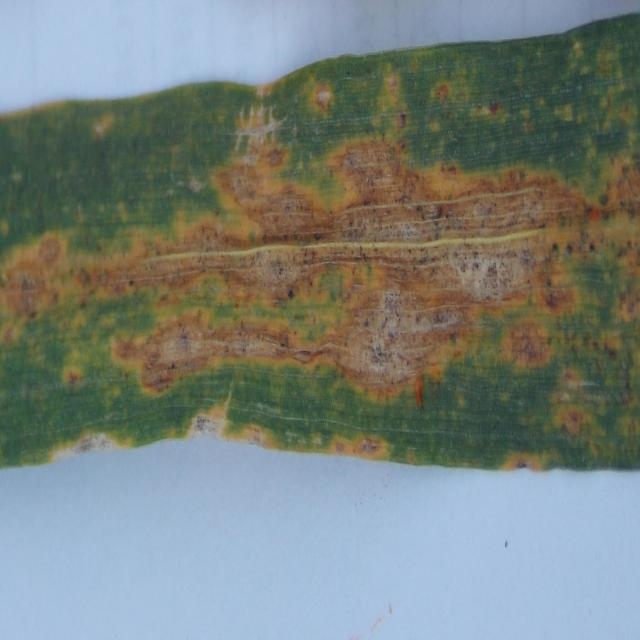wheat-septoria: (0, 60, 640, 411), (322, 428, 393, 460), (234, 99, 281, 147), (550, 406, 589, 442), (316, 85, 334, 124)
